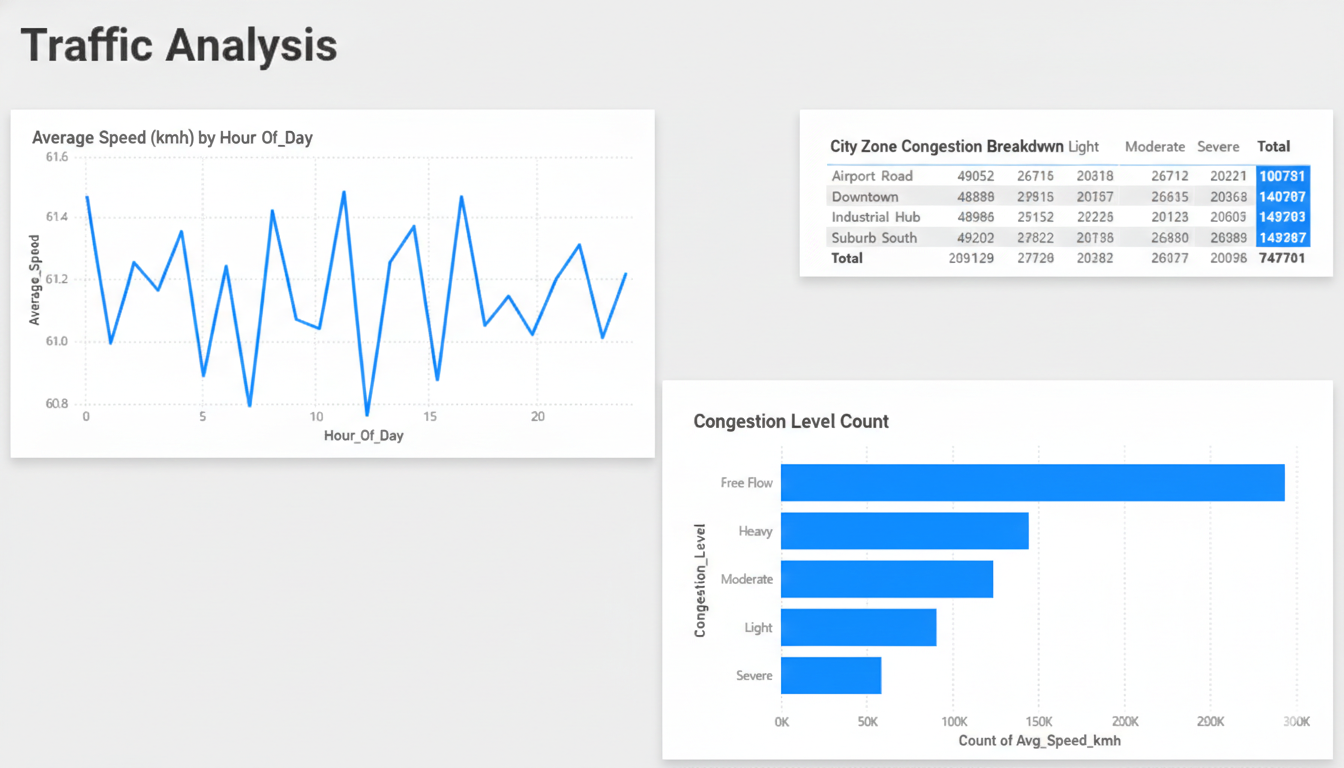

What the dashboard file says about the page in this screenshot:
{"tool":"powerbi","page":{"name":"Traffic Analysis","canvas":[1280,720],"ordinal":2},"visuals":[{"type":"clusteredBarChart","fields":{"Category":["Clean_Master_Data.Congestion_Level"],"Y":["CountNonNull(Clean_Master_Data.Avg_Speed_kmh)"]},"box":[658.3,360,621.7,343.3],"z":0},{"type":"lineChart","fields":{"Y":["Avg(Clean_Master_Data.Avg_Speed_kmh)"],"Category":["Clean_Master_Data.Hour_Of_Day"]},"box":[0,0,640,360],"z":1000},{"type":"pivotTable","fields":{"Rows":["Clean_Master_Data.City_Zone"],"Columns":["Clean_Master_Data.Congestion_Level"],"Values":["CountNonNull(Clean_Master_Data.Avg_Speed_kmh)"]},"box":[796.7,0,483.3,225],"z":2000}]}

Visuals, with their boxes in screenshot pixels (x1, y1, x2, y2), scaled from the page's 1280x720 canvas onto the 1344x768 screenshot:
clusteredBarChart - Clean_Master_Data.Congestion_Level x CountNonNull(Clean_Master_Data.Avg_Speed_kmh): {"left": 691, "top": 384, "right": 1343, "bottom": 750}
lineChart - Avg(Clean_Master_Data.Avg_Speed_kmh) x Clean_Master_Data.Hour_Of_Day: {"left": 0, "top": 0, "right": 672, "bottom": 384}
pivotTable - Clean_Master_Data.City_Zone x Clean_Master_Data.Congestion_Level: {"left": 837, "top": 0, "right": 1343, "bottom": 240}
